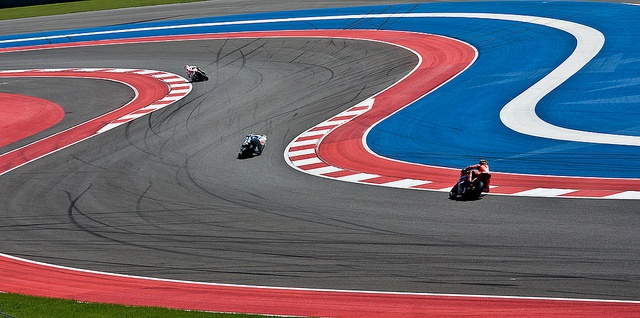non-vehicle: (448, 169, 491, 199), (237, 132, 259, 158), (190, 68, 208, 82)
